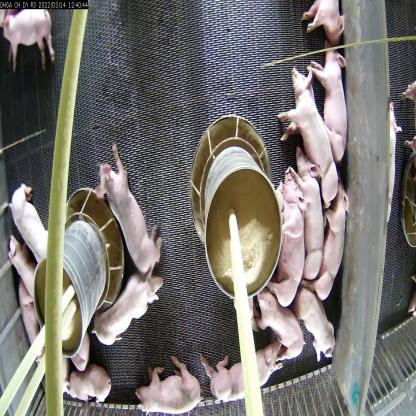Pig: (91, 136, 173, 288), (280, 61, 335, 205), (85, 271, 164, 357), (270, 176, 315, 324), (284, 271, 343, 362), (203, 348, 293, 406), (133, 352, 207, 415), (315, 51, 352, 174), (0, 0, 54, 82), (292, 154, 324, 283), (250, 282, 299, 358), (51, 352, 109, 415), (10, 171, 49, 263), (318, 194, 350, 300)
